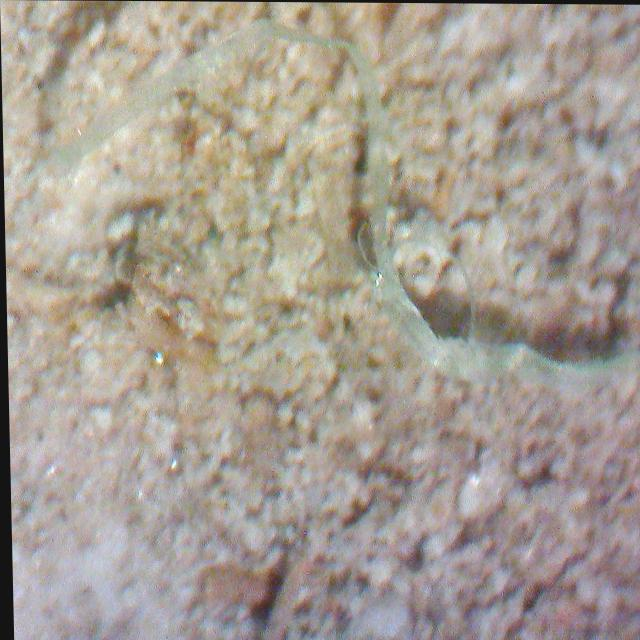microplastic: (33, 0, 640, 446)
